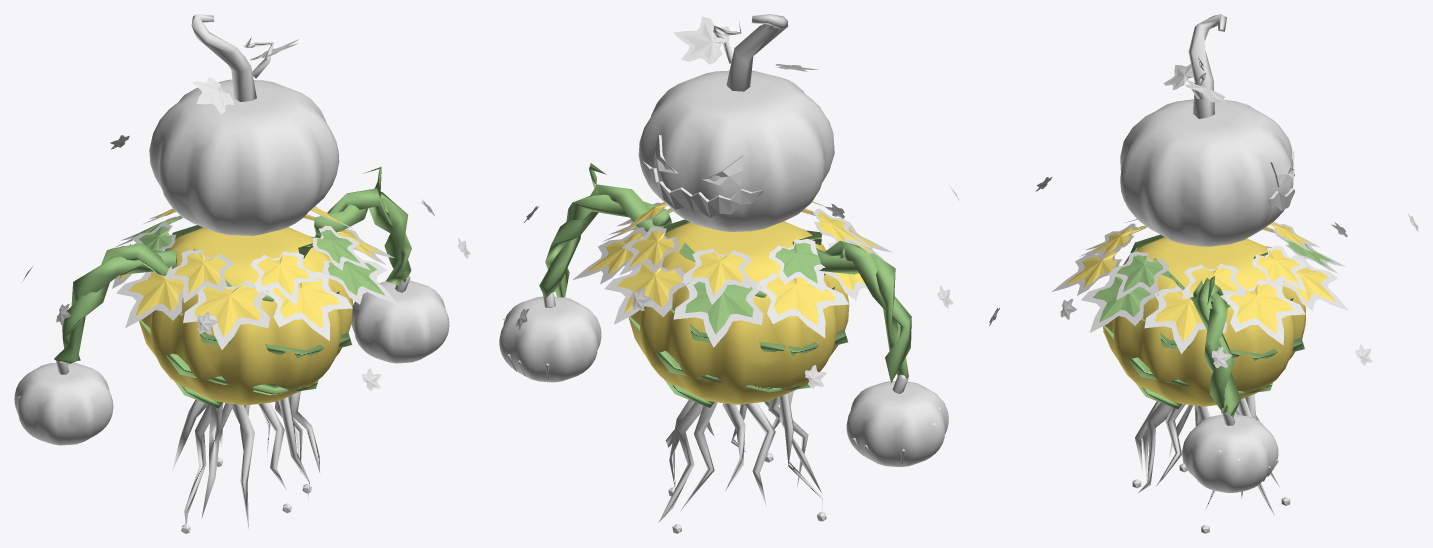
Rendered from Gourdian.glb.
3 views of the same model, side by side, from view 1: azimuth 30°, elevation 25°; view 2: azimuth 150°, elevation 25°; view 3: azimuth 270°, elevation 25° (orthographic). The views are drawn at different scales.
Visible parts, largest first — view 1: Body, HeadPumpkinHead, Vine, FistRPumpkinFist, FistLPumpkinFist, RootsVineDark, Plume, HeadVine, Plume2, Plume3, SeedPlume, SeedFire; view 2: Body, HeadPumpkinHead, Vine, FistRPumpkinFist, FistLPumpkinFist, RootsVineDark, Plume, HeadVine, HeadGlow, Plume2, Plume3, SeedPlume (+1 smaller); view 3: Body, HeadPumpkinHead, Vine, FistLPumpkinFist, Plume, RootsVineDark, HeadVine, Plume2, Plume3, HeadGlow, SeedPlume, SeedFire.
Boxes of the visible parts, x1=… form: Body: x1=119, y1=207, x2=381, y2=405; HeadPumpkinHead: x1=149, y1=39, x2=339, y2=235; Vine: x1=54, y1=166, x2=411, y2=408; FistRPumpkinFist: x1=14, y1=362, x2=113, y2=445; FistLPumpkinFist: x1=351, y1=280, x2=449, y2=363; RootsVineDark: x1=172, y1=391, x2=320, y2=529; Plume: x1=112, y1=206, x2=397, y2=327; HeadVine: x1=191, y1=14, x2=290, y2=108; Plume2: x1=143, y1=211, x2=352, y2=340; Plume3: x1=164, y1=215, x2=315, y2=349; SeedPlume: x1=24, y1=137, x2=468, y2=388; SeedFire: x1=23, y1=135, x2=470, y2=391; Body: x1=586, y1=201, x2=879, y2=404; HeadPumpkinHead: x1=638, y1=16, x2=834, y2=231; Vine: x1=539, y1=163, x2=911, y2=407; FistRPumpkinFist: x1=846, y1=381, x2=948, y2=466; FistLPumpkinFist: x1=499, y1=296, x2=601, y2=382; RootsVineDark: x1=658, y1=391, x2=822, y2=522; Plume: x1=602, y1=202, x2=868, y2=347; HeadVine: x1=683, y1=14, x2=808, y2=91; HeadGlow: x1=643, y1=135, x2=762, y2=217; Plume2: x1=604, y1=202, x2=829, y2=324; Plume3: x1=573, y1=208, x2=892, y2=284; SeedPlume: x1=517, y1=187, x2=958, y2=386; Body: x1=1065, y1=219, x2=1335, y2=406; HeadPumpkinHead: x1=1120, y1=64, x2=1293, y2=246; Vine: x1=1092, y1=234, x2=1333, y2=417; FistLPumpkinFist: x1=1182, y1=414, x2=1278, y2=492; Plume: x1=1081, y1=225, x2=1345, y2=353; RootsVineDark: x1=1135, y1=394, x2=1279, y2=515; HeadVine: x1=1169, y1=14, x2=1226, y2=118; Plume2: x1=1052, y1=221, x2=1348, y2=310; Plume3: x1=1079, y1=219, x2=1307, y2=345; HeadGlow: x1=1268, y1=139, x2=1294, y2=210; SeedPlume: x1=990, y1=178, x2=1417, y2=365; SeedFire: x1=989, y1=177, x2=1418, y2=368.
Size of the model in its own units: 3.18 by 3.57 by 2.94.
